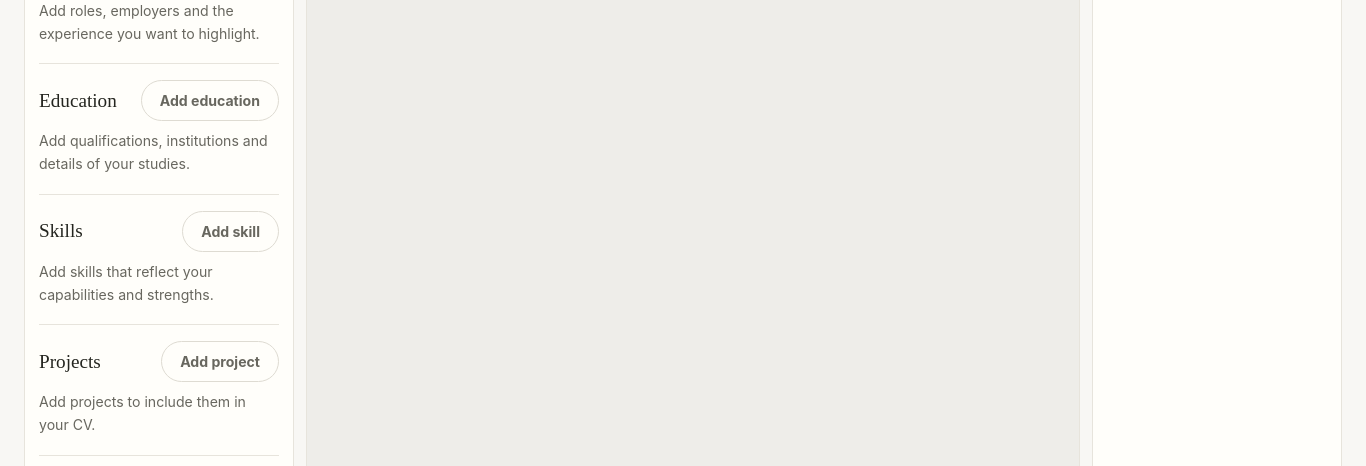
Test: skills editor › edits while preserving ID, clears optional values and removes skills
Later steps or results of the test are not shown.
(page scrolled)
Step 1. Click the button "Add skill" → (231, 231), box 182,211 -> 279,252
(page scrolled)
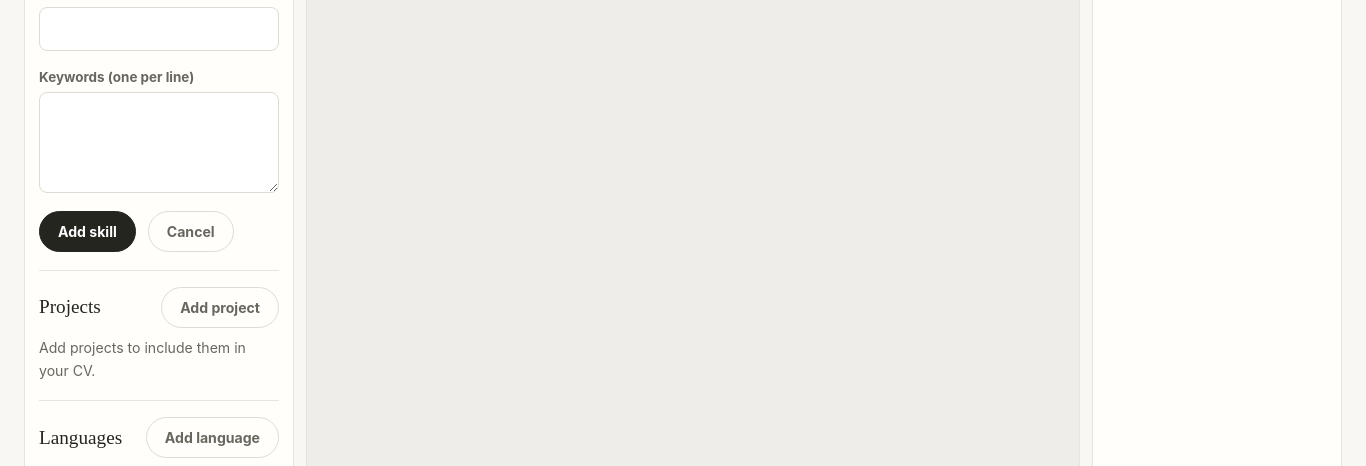
Step 2. Click the button "Add skill" → (87, 231), box 39,211 -> 136,252
(page scrolled)
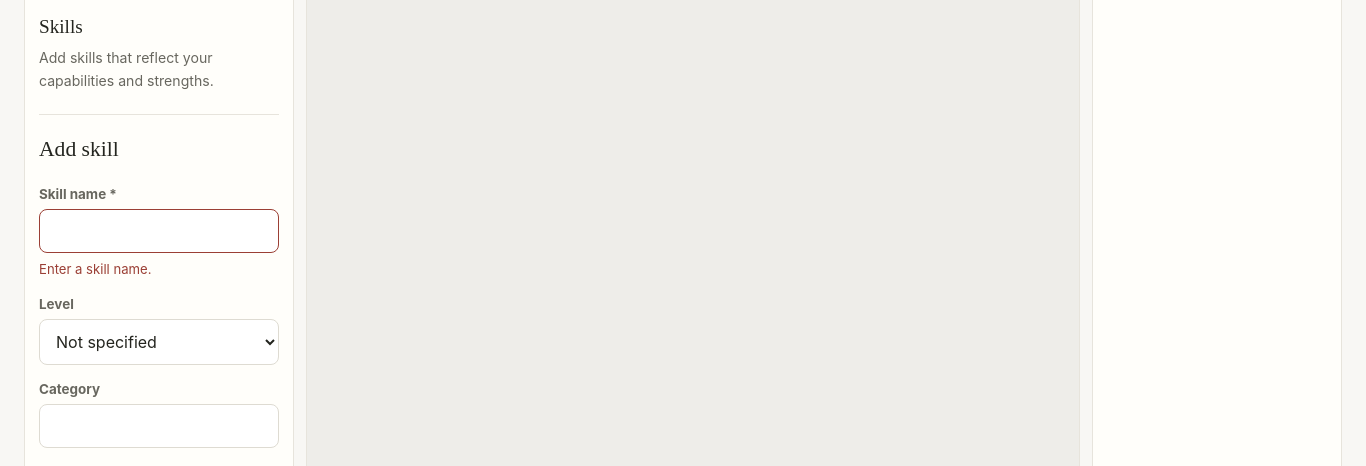
Now the message shows "skill name", box 39,261 -> 151,277
